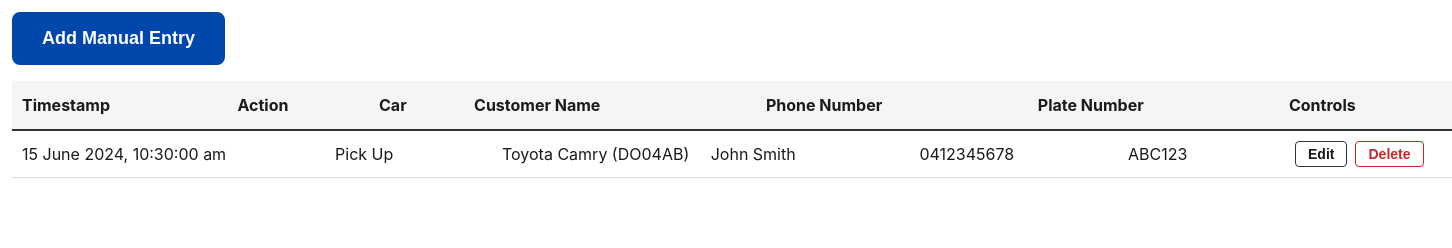
Test: LogTable › shows no-photo message when licensePhotoUrl is null
Click the button "15 June 2024, 10:30:00 am".
click(124, 154)  # box [22,144,226,164]
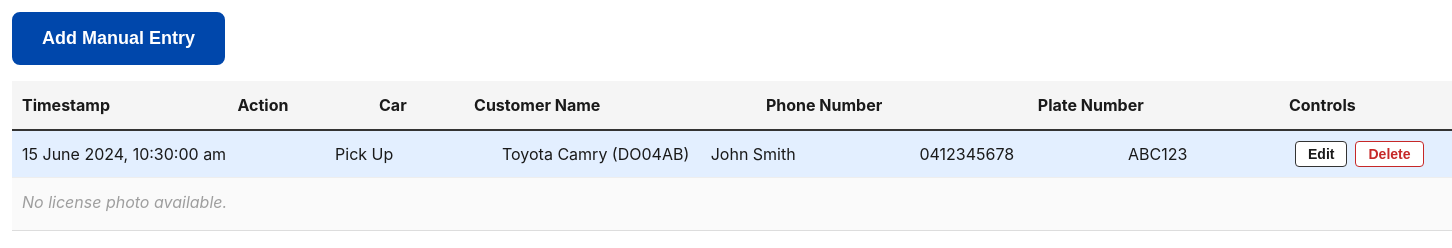
Now the text "No license photo available." is shown, box [22,192,227,212]
